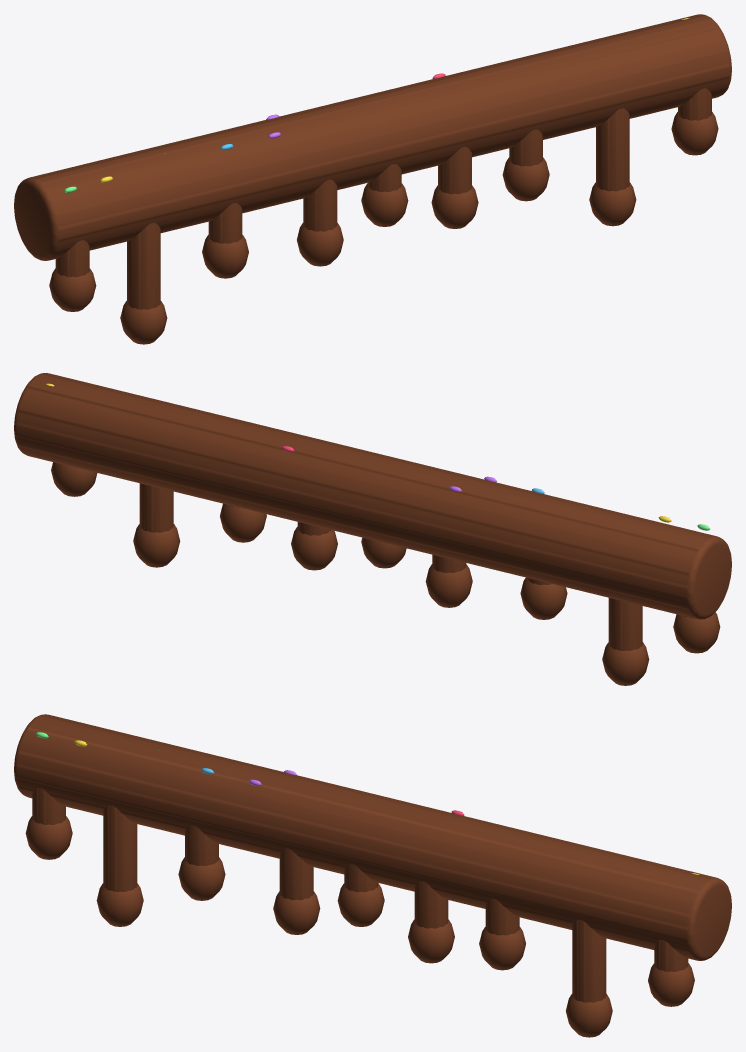
The model's file is FrostingEdge_C.glb.
3 views of the same model, one above another, from view 1: azimuth 30°, elevation 25°; view 2: azimuth 150°, elevation 25°; view 3: azimuth 330°, elevation 25° (orthographic).
Parts seen in each view (by area): view 1: FrostingEdge_C.001; view 2: FrostingEdge_C.001; view 3: FrostingEdge_C.001.
Boxes of the visible parts, left/top/right/bottom form: FrostingEdge_C.001: left=14, top=14, right=731, bottom=344; FrostingEdge_C.001: left=14, top=373, right=731, bottom=685; FrostingEdge_C.001: left=14, top=714, right=731, bottom=1037.
Bounding box in the file's own units: 4 × 0.9917 × 0.4567.
